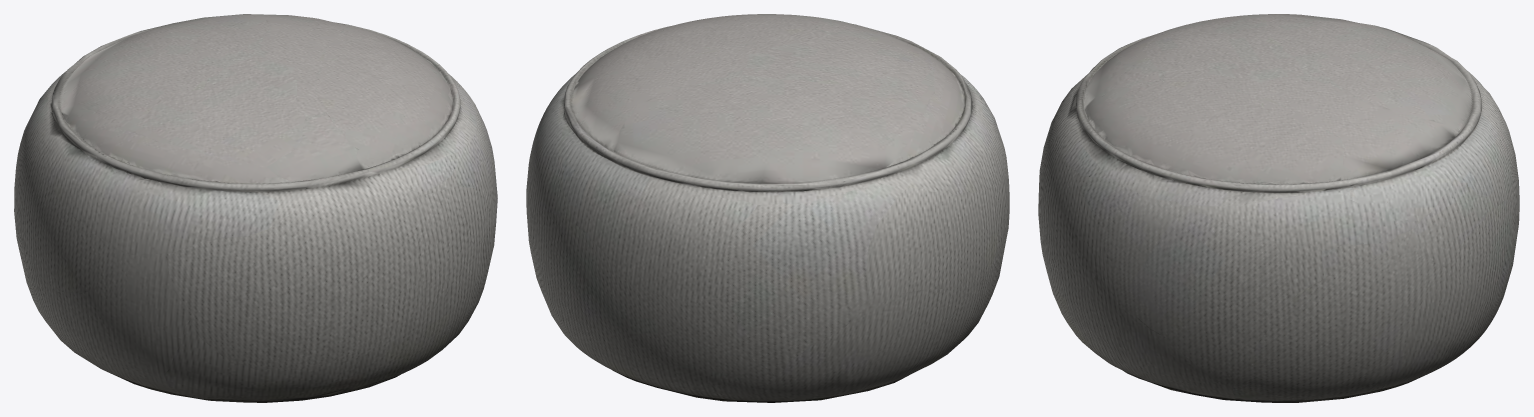
File: ottoman-lite.glb
The picture shows the model from 3 angles, left to right: view 1: azimuth 30°, elevation 25°; view 2: azimuth 150°, elevation 25°; view 3: azimuth 270°, elevation 25°; orthographic projection.
Visible parts, largest first — view 1: node_0; view 2: node_0; view 3: node_0.
Part boxes in pixels (x1=…): node_0: x1=14, y1=14, x2=497, y2=402; node_0: x1=526, y1=14, x2=1009, y2=402; node_0: x1=1038, y1=14, x2=1519, y2=402.
Size of the model in its own units: 1.16 by 0.6792 by 1.16.
Materials: 1 (1 with a texture image).
